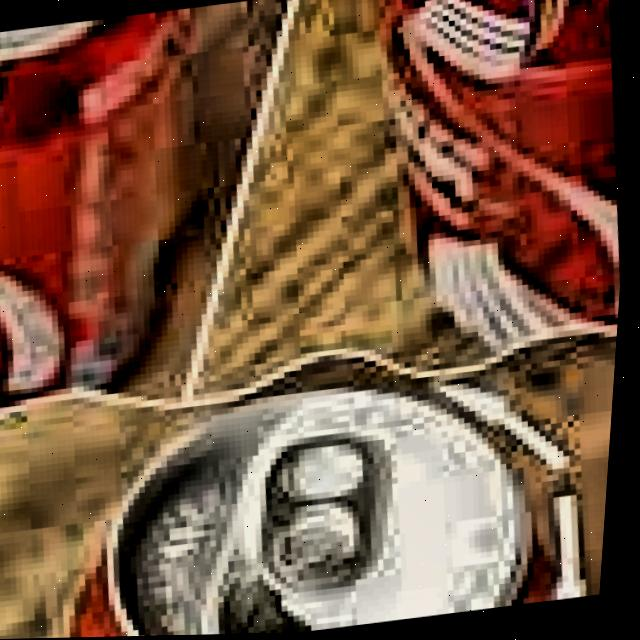metal: (36, 350, 584, 639), (327, 0, 640, 410), (0, 7, 241, 427)
